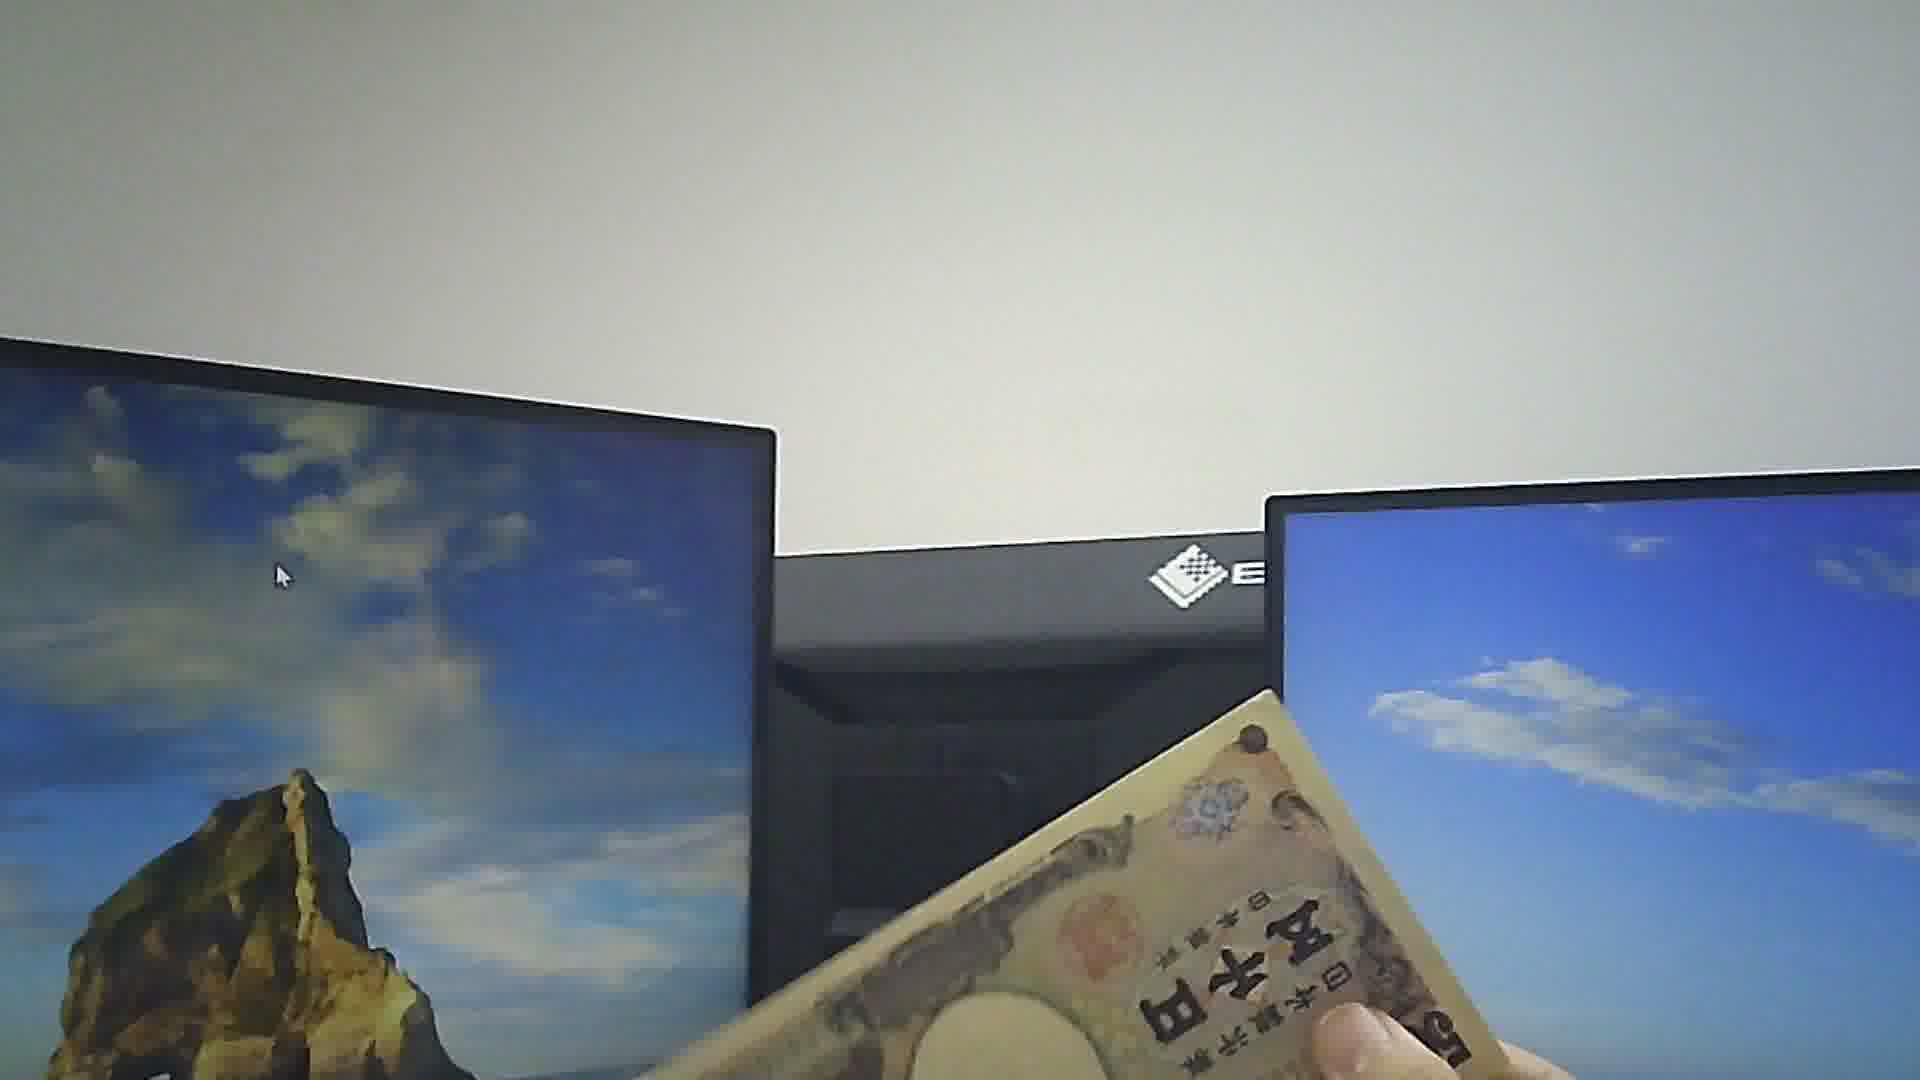5,000 Yen: (628, 675, 1516, 1079)
